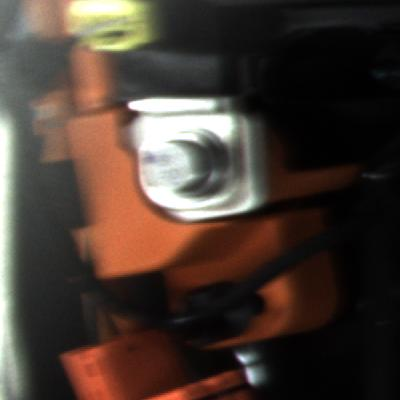nut_b: (139, 125, 238, 207)
